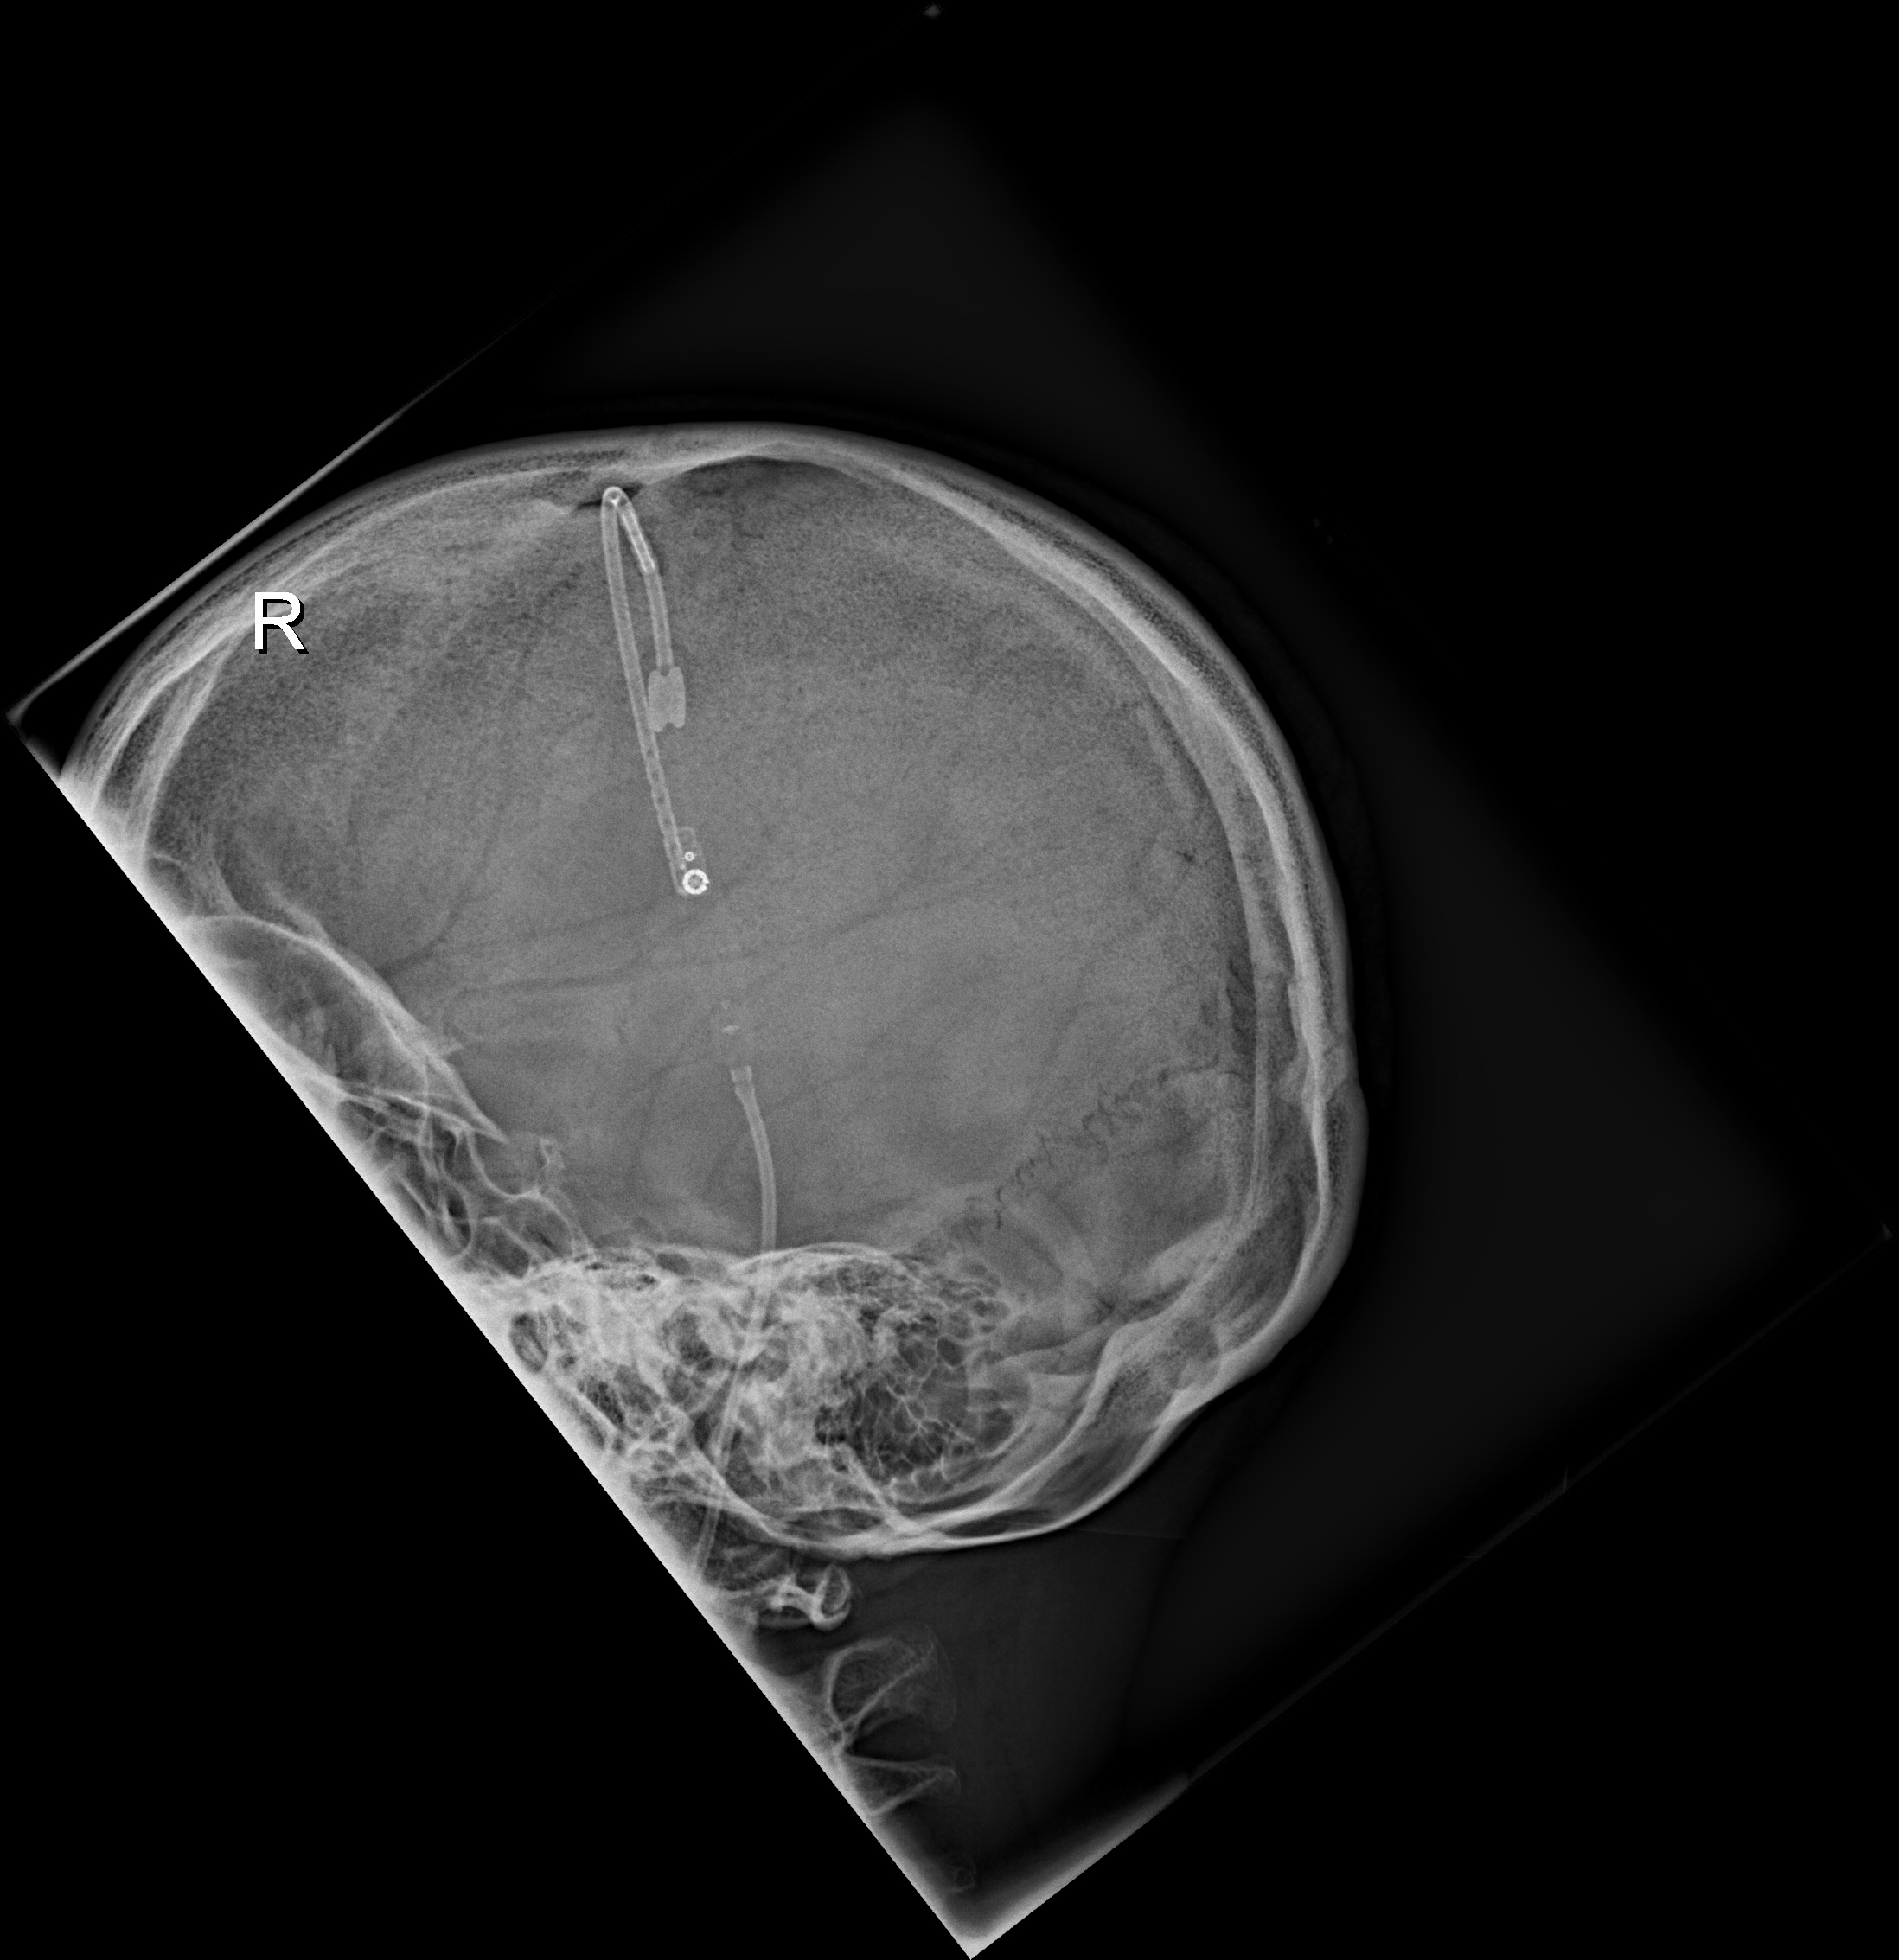Codman Hakim: (658, 822, 723, 917)
